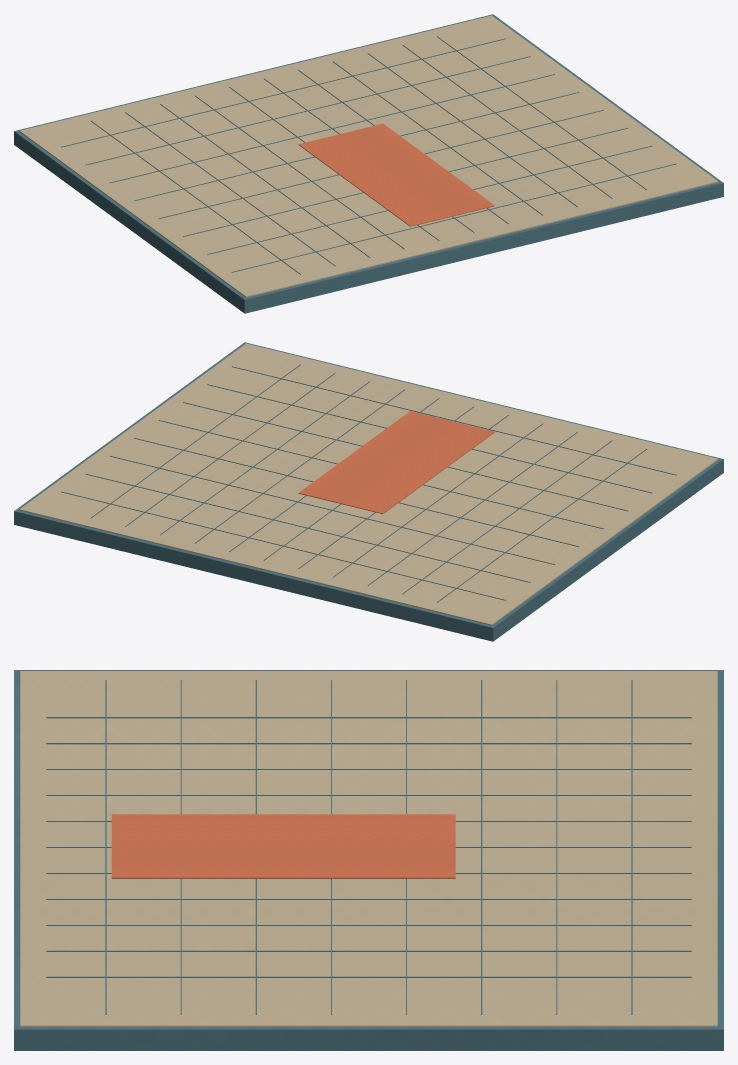
File: atlas100-s046-a07.glb
3 renders of one model, top to bottom at view 1: azimuth 30°, elevation 25°; view 2: azimuth 150°, elevation 25°; view 3: azimuth 270°, elevation 25°, orthographic. The views are drawn at different scales.
Parts seen in each view (by area): view 1: atlas100-s046-a07:part-001, atlas100-s046-a07:part-000, atlas100-s046-a07:part-021, atlas100-s046-a07:part-020, atlas100-s046-a07:part-014, atlas100-s046-a07:part-013, atlas100-s046-a07:part-015, atlas100-s046-a07:part-016, atlas100-s046-a07:part-018, atlas100-s046-a07:part-019, atlas100-s046-a07:part-017; view 2: atlas100-s046-a07:part-001, atlas100-s046-a07:part-000, atlas100-s046-a07:part-021, atlas100-s046-a07:part-013, atlas100-s046-a07:part-015, atlas100-s046-a07:part-014, atlas100-s046-a07:part-020, atlas100-s046-a07:part-017, atlas100-s046-a07:part-019, atlas100-s046-a07:part-016, atlas100-s046-a07:part-018; view 3: atlas100-s046-a07:part-001, atlas100-s046-a07:part-000, atlas100-s046-a07:part-021, atlas100-s046-a07:part-011, atlas100-s046-a07:part-012, atlas100-s046-a07:part-002, atlas100-s046-a07:part-003, atlas100-s046-a07:part-013, atlas100-s046-a07:part-014, atlas100-s046-a07:part-015, atlas100-s046-a07:part-020, atlas100-s046-a07:part-010 (+3 smaller).
Boxes of the visible parts, x1,y1,x2,y2 form: atlas100-s046-a07:part-001: [19, 15, 718, 297]; atlas100-s046-a07:part-000: [14, 14, 723, 313]; atlas100-s046-a07:part-021: [298, 123, 494, 226]; atlas100-s046-a07:part-020: [231, 163, 676, 272]; atlas100-s046-a07:part-014: [85, 56, 530, 165]; atlas100-s046-a07:part-013: [61, 38, 505, 147]; atlas100-s046-a07:part-015: [110, 74, 554, 183]; atlas100-s046-a07:part-016: [134, 92, 579, 201]; atlas100-s046-a07:part-018: [183, 127, 627, 236]; atlas100-s046-a07:part-019: [207, 145, 652, 254]; atlas100-s046-a07:part-017: [158, 110, 603, 218]; atlas100-s046-a07:part-001: [19, 343, 718, 625]; atlas100-s046-a07:part-000: [14, 342, 723, 641]; atlas100-s046-a07:part-021: [298, 411, 494, 513]; atlas100-s046-a07:part-013: [61, 491, 506, 600]; atlas100-s046-a07:part-015: [110, 455, 554, 564]; atlas100-s046-a07:part-014: [85, 473, 530, 582]; atlas100-s046-a07:part-020: [232, 366, 676, 475]; atlas100-s046-a07:part-017: [158, 420, 603, 529]; atlas100-s046-a07:part-019: [207, 384, 652, 493]; atlas100-s046-a07:part-016: [134, 438, 579, 546]; atlas100-s046-a07:part-018: [183, 402, 627, 511]; atlas100-s046-a07:part-001: [20, 671, 717, 1026]; atlas100-s046-a07:part-000: [14, 670, 723, 1050]; atlas100-s046-a07:part-021: [111, 814, 455, 878]; atlas100-s046-a07:part-011: [46, 950, 691, 951]; atlas100-s046-a07:part-012: [46, 976, 691, 977]; atlas100-s046-a07:part-002: [46, 717, 691, 718]; atlas100-s046-a07:part-003: [46, 743, 691, 744]; atlas100-s046-a07:part-013: [631, 680, 632, 1014]; atlas100-s046-a07:part-014: [556, 680, 557, 1014]; atlas100-s046-a07:part-015: [481, 680, 482, 1014]; atlas100-s046-a07:part-020: [105, 680, 106, 1014]; atlas100-s046-a07:part-010: [46, 925, 691, 925].
Size of the model in its own units: 12.46 by 0.404 by 10.4.
Materials: 3 (3 with a texture image).
